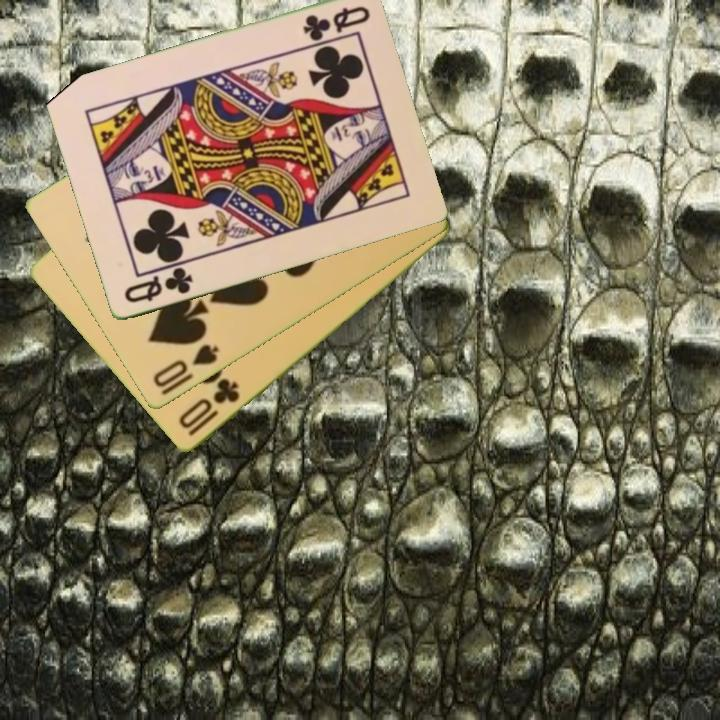10c: (175, 375, 243, 440)
10s: (149, 341, 222, 391)
Qc: (120, 264, 196, 307), (299, 3, 373, 43)
